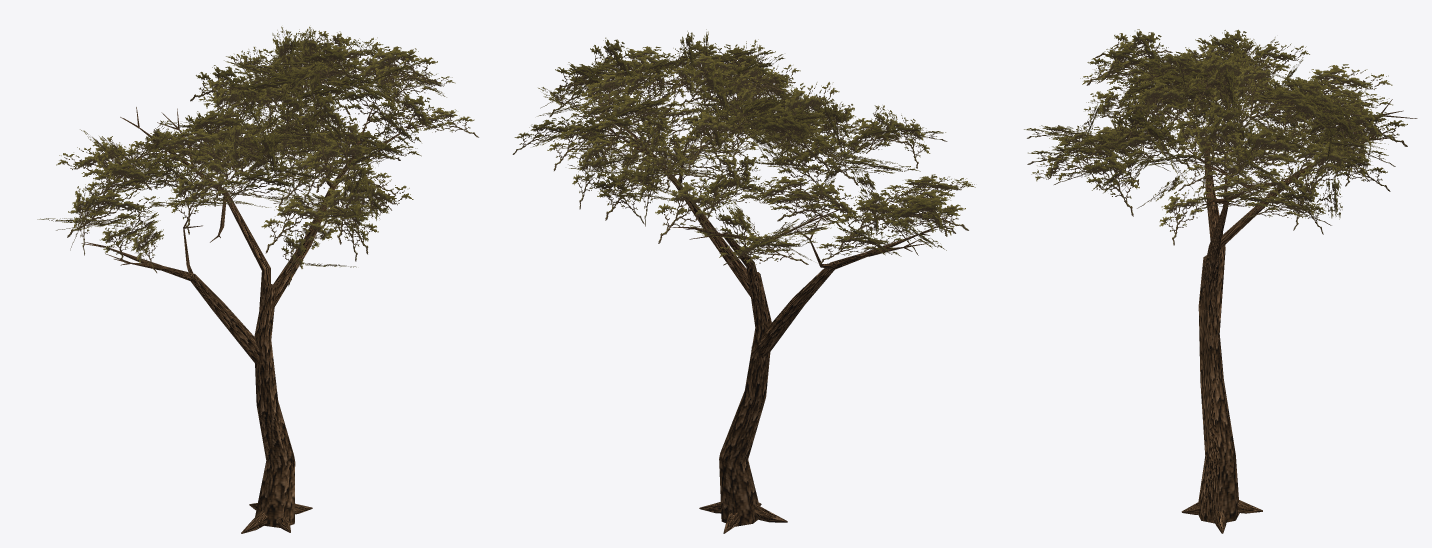
File: Acacia_06_Jovem_Irregular.glb
The picture shows the model from 3 angles, left to right: view 1: azimuth 30°, elevation 25°; view 2: azimuth 150°, elevation 25°; view 3: azimuth 270°, elevation 25°; orthographic projection. The views are drawn at different scales.
Visible parts, largest first — view 1: Folhagem fina, Tronco e raizes, Ramos principais, Ramos secundarios; view 2: Folhagem fina, Tronco e raizes, Ramos principais, Ramos secundarios; view 3: Folhagem fina, Tronco e raizes, Ramos principais.
Boxes of the visible parts, box(x1,y1,x2,y2) form: Folhagem fina: box(37, 26, 478, 286); Tronco e raizes: box(241, 284, 312, 533); Ramos principais: box(146, 156, 353, 365); Ramos secundarios: box(109, 120, 407, 273); Folhagem fina: box(512, 29, 975, 272); Tronco e raizes: box(699, 272, 787, 533); Ramos principais: box(645, 148, 881, 358); Ramos secundarios: box(619, 128, 917, 268); Folhagem fina: box(1024, 29, 1407, 245); Tronco e raizes: box(1181, 255, 1262, 533); Ramos principais: box(1202, 136, 1314, 337).
Size of the model in its own units: 5 by 5.15 by 3.81.
Materials: 2 (2 with a texture image).
